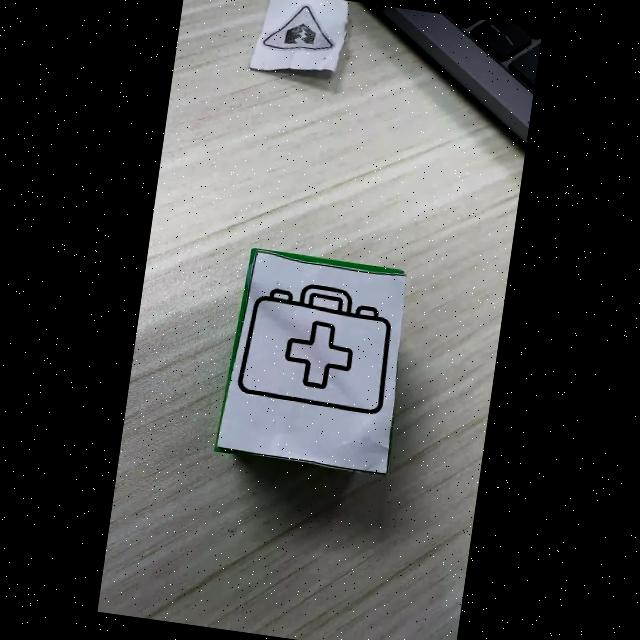Medkit: (239, 286, 391, 414)
